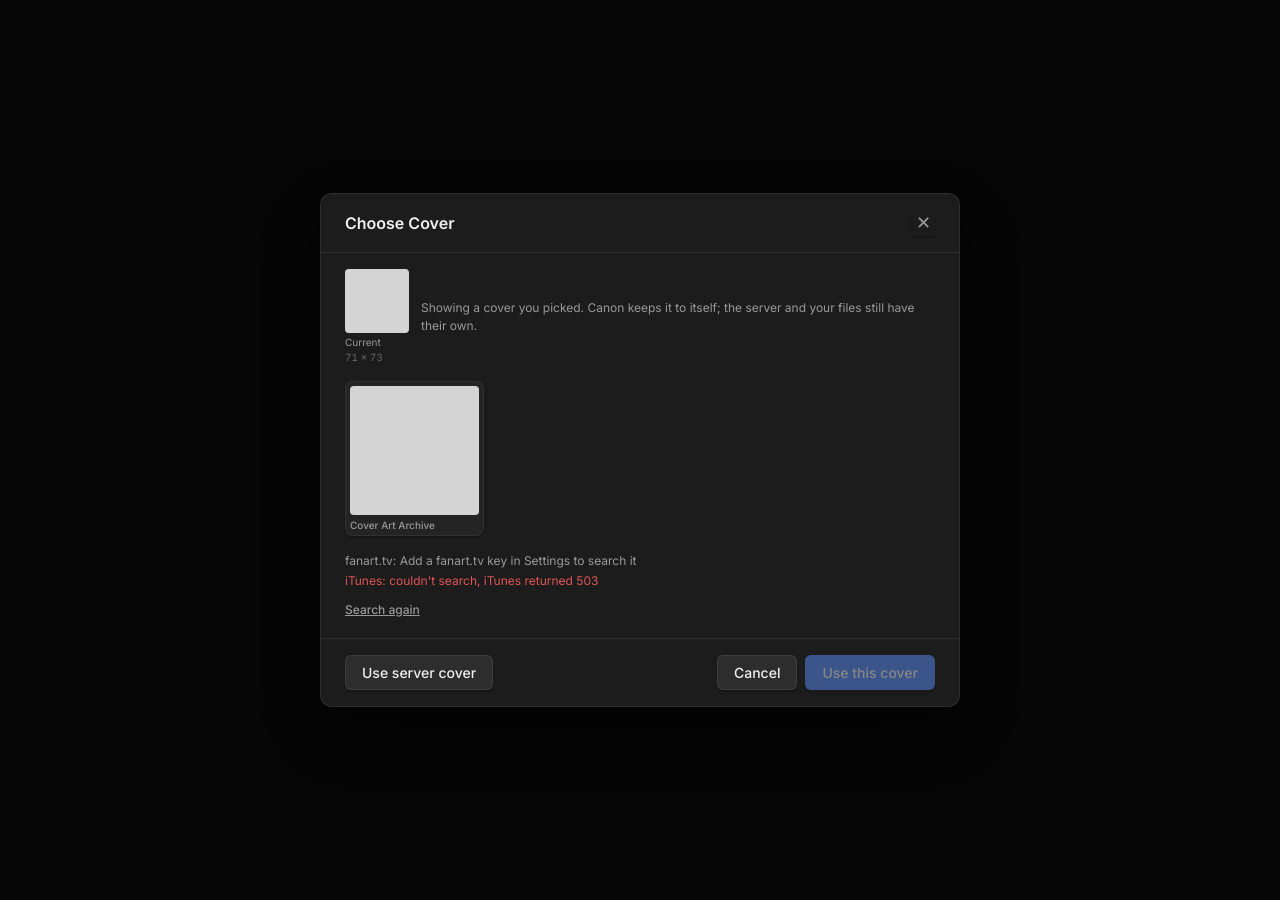
Scenario: CoverPickerDialog › stays open and says why when the cover could not be kept
This screenshot has width=1280, height=900.
Click the button "Cover Art Archive".
click(414, 459)  # box [345,381,484,536]
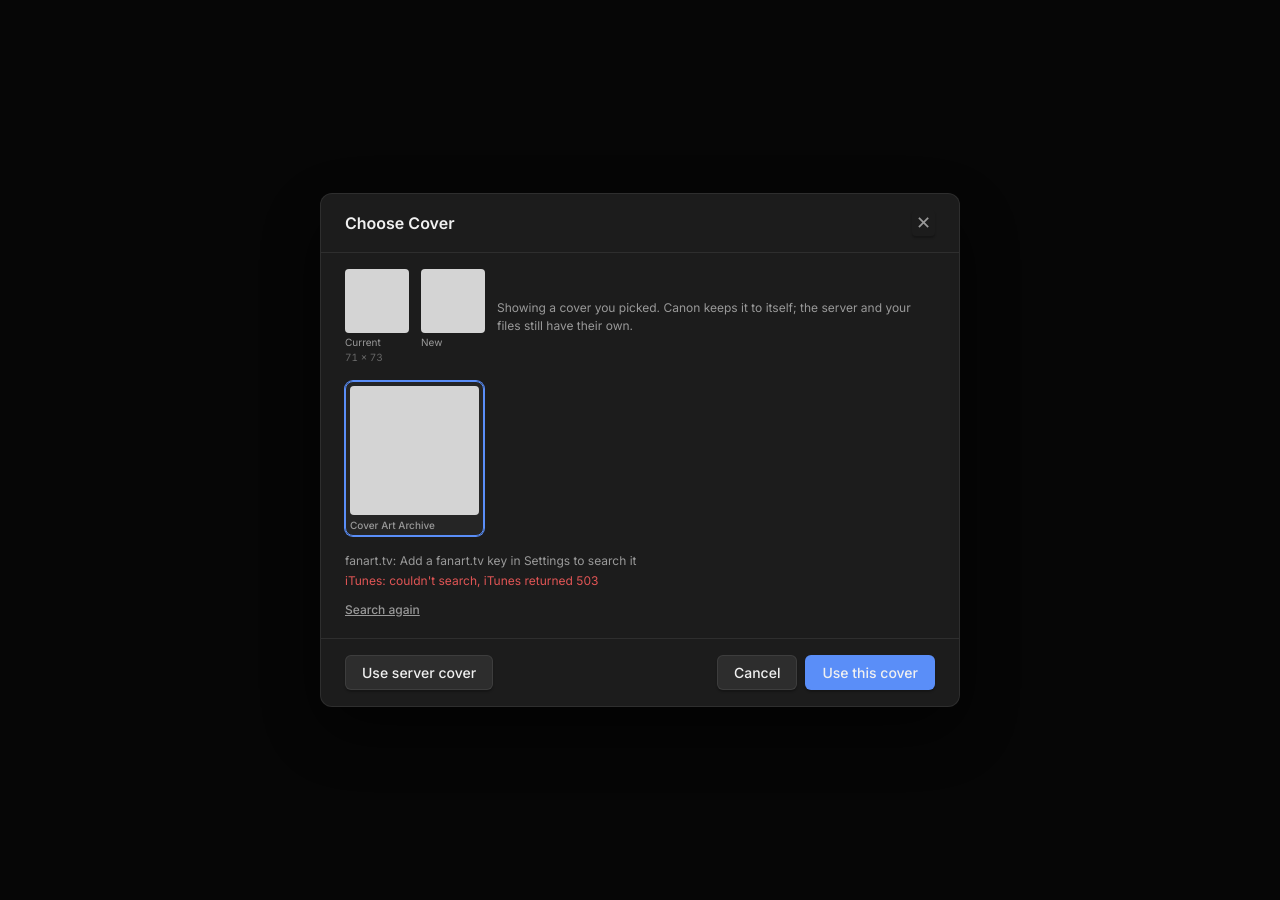
Click the button "Use this cover".
click(870, 672)  # box [806,655,935,690]
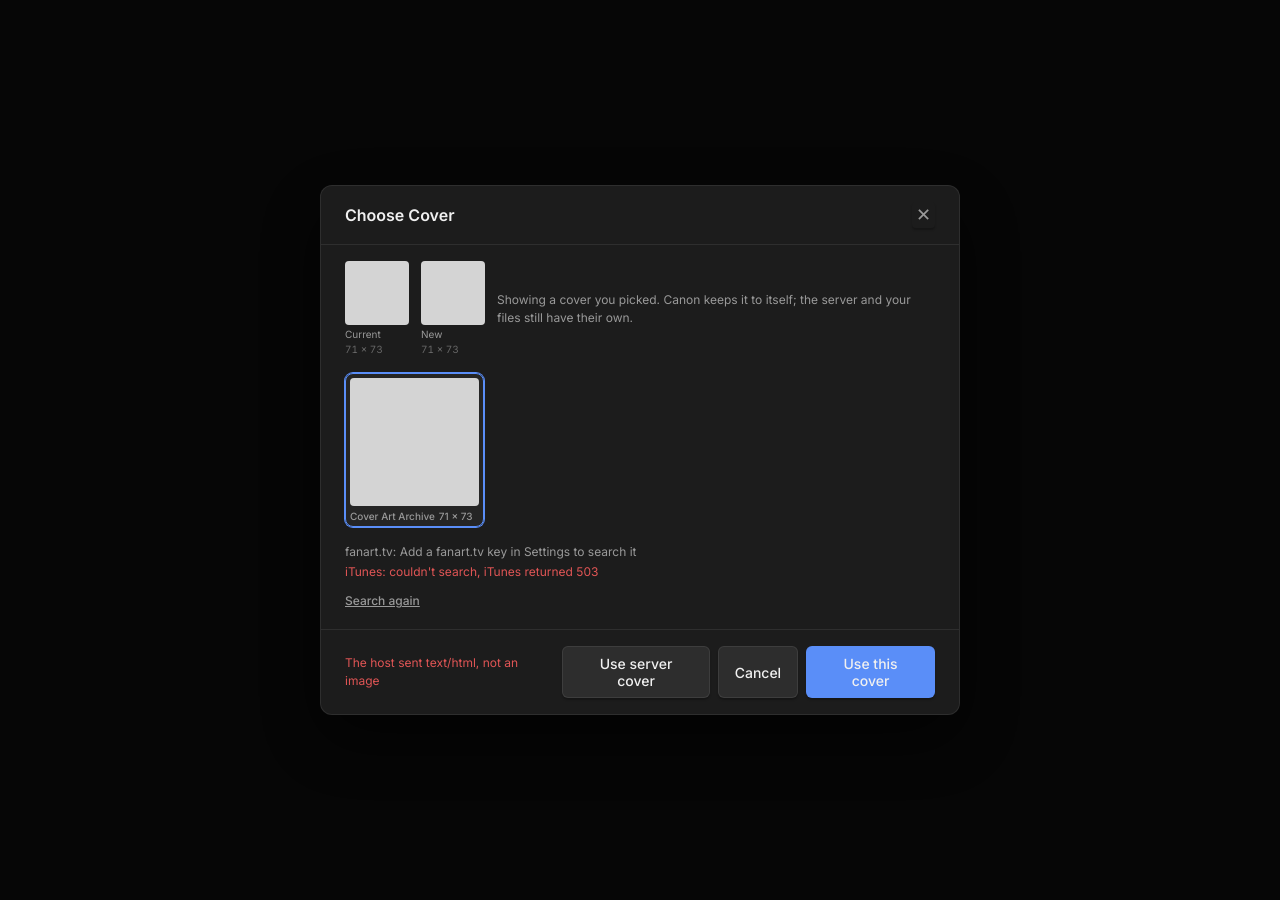
Now the message shows "not an image", box [345,655,518,688]
